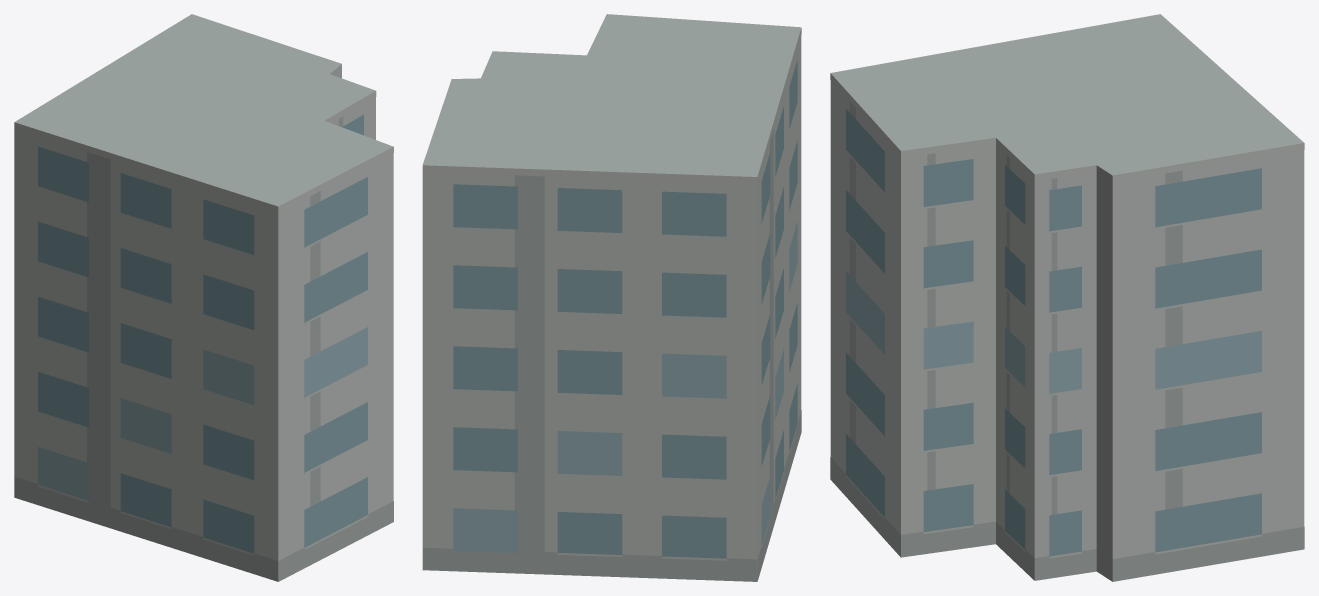
File: survey-upis-32843009.glb
The picture shows the model from 3 angles, left to right: view 1: azimuth 30°, elevation 25°; view 2: azimuth 150°, elevation 25°; view 3: azimuth 270°, elevation 25°; orthographic projection. The views are drawn at different scales.
Visible parts, largest first — view 1: survey-upis-32843009.tmp; view 2: survey-upis-32843009.tmp; view 3: survey-upis-32843009.tmp.
Part boxes in pixels (left/top/right/bottom): survey-upis-32843009.tmp: left=14, top=14, right=393, bottom=581; survey-upis-32843009.tmp: left=422, top=14, right=801, bottom=581; survey-upis-32843009.tmp: left=830, top=14, right=1304, bottom=581.
Bounding box in the file's own units: 12.27 × 14.39 × 15.22.
